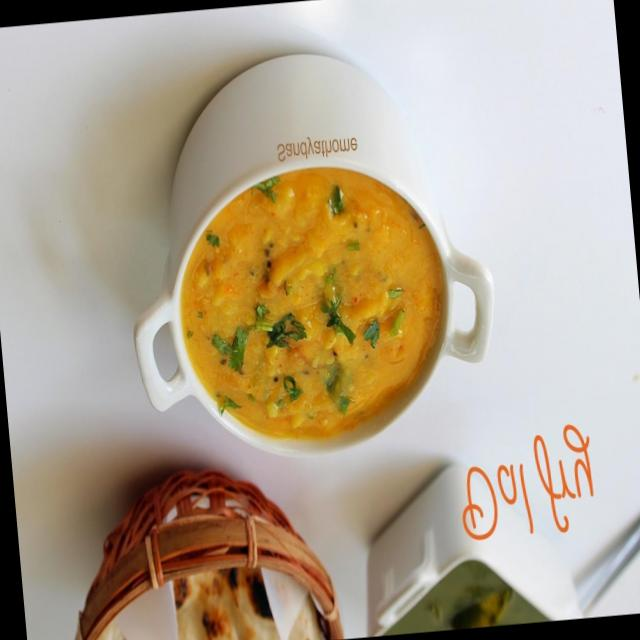dal: (178, 143, 432, 460)
roti: (83, 549, 319, 640)
